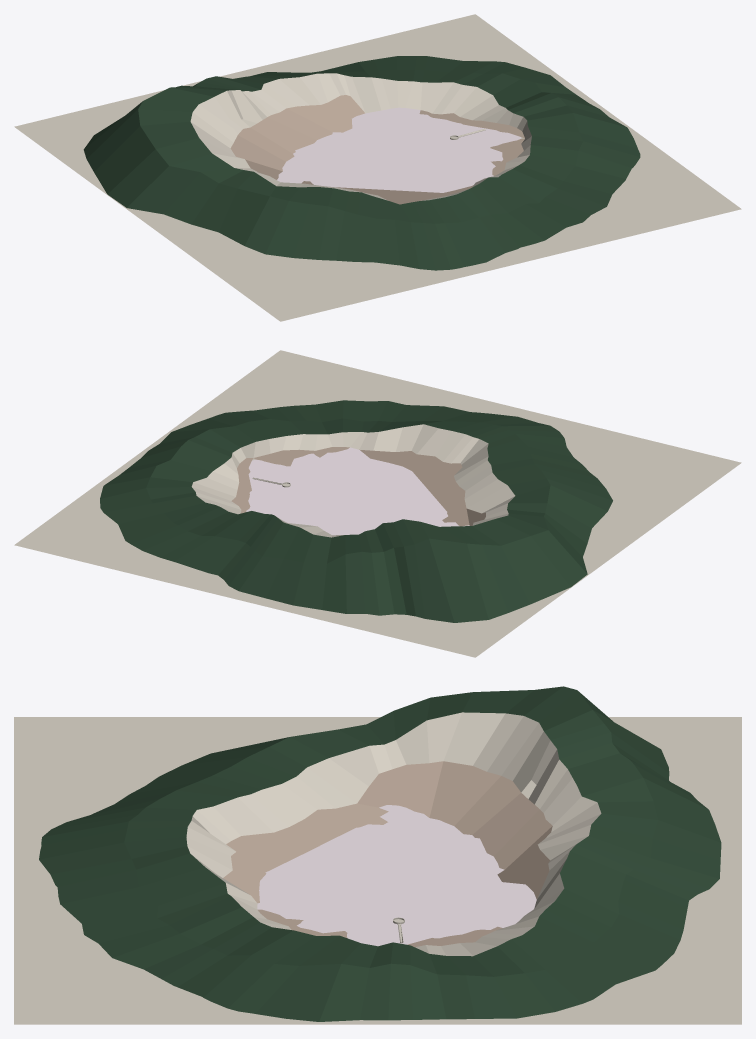
File: kawah putih.fbx
3 views of the same model, one above another, from view 1: azimuth 30°, elevation 25°; view 2: azimuth 150°, elevation 25°; view 3: azimuth 270°, elevation 25° (orthographic). The views are drawn at different scales.
Parts seen in each view (by area): view 1: Cube; view 2: Cube; view 3: Cube.
Part boxes in pixels (left/top/right/bottom): Cube: left=14, top=14, right=741, bottom=321; Cube: left=14, top=350, right=741, bottom=657; Cube: left=14, top=686, right=741, bottom=1024.
Bounding box in the file's own units: 2907 × 330 × 2901.
